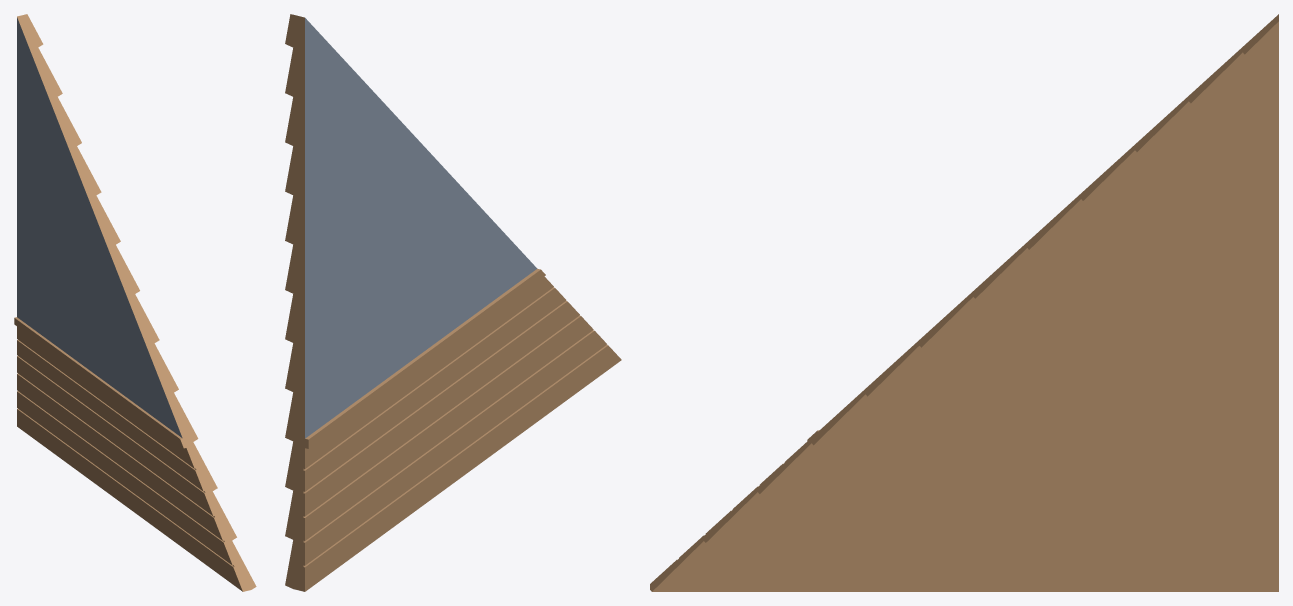
File: Triangle Wall B-col.glb
The picture shows the model from 3 angles, left to right: view 1: azimuth 30°, elevation 25°; view 2: azimuth 150°, elevation 25°; view 3: azimuth 270°, elevation 25°; orthographic projection. The views are drawn at different scales.
Visible parts, largest first — view 1: Triangle Wall B-col.001; view 2: Triangle Wall B-col.001; view 3: Triangle Wall B-col.001.
Boxes of the visible parts, x1=… form: Triangle Wall B-col.001: x1=14, y1=14, x2=256, y2=591; Triangle Wall B-col.001: x1=285, y1=14, x2=621, y2=591; Triangle Wall B-col.001: x1=650, y1=14, x2=1278, y2=591.
Size of the model in its own units: 0.1378 by 3.21 by 3.21.
